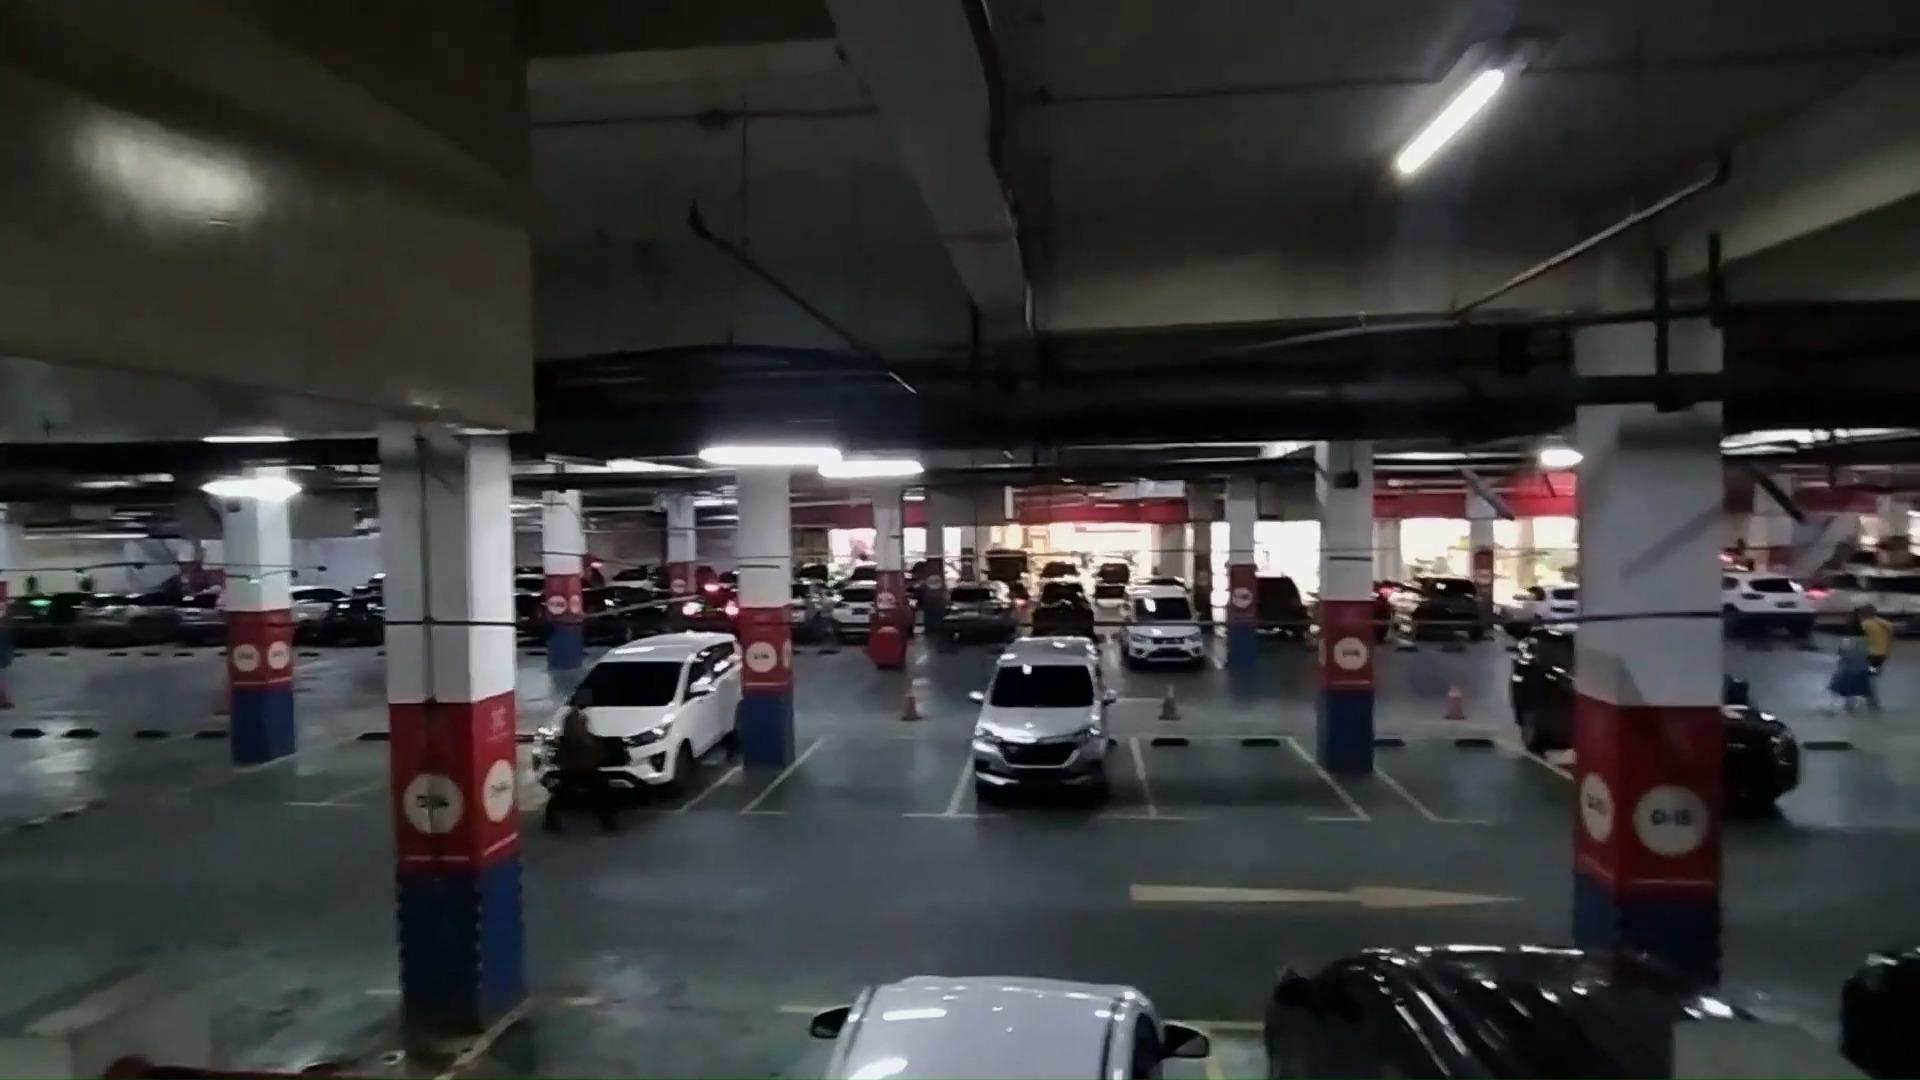empty: (1134, 730, 1370, 824), (742, 727, 966, 819), (1370, 732, 1576, 827)
occupied: (532, 634, 742, 816), (950, 646, 1150, 820)
